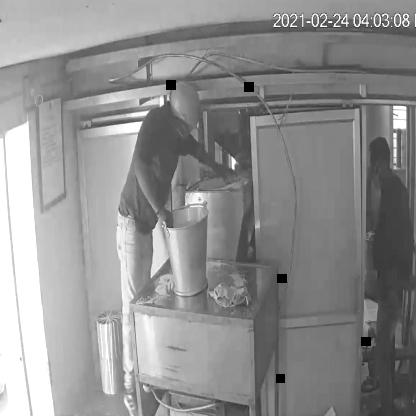helmet: (166, 66, 206, 142)
